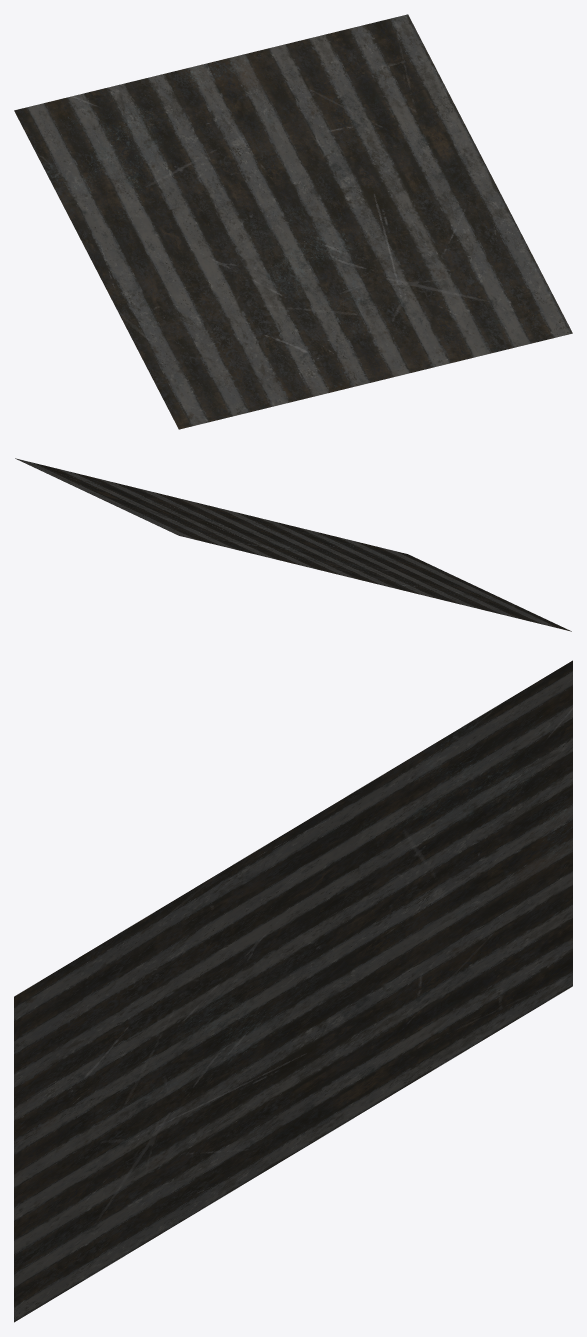
The model's file is roof3x1_reversed.fbx.
The picture shows the model from 3 angles, top to bottom: view 1: azimuth 30°, elevation 25°; view 2: azimuth 150°, elevation 25°; view 3: azimuth 270°, elevation 25°; orthographic projection. The views are drawn at different scales.
Visible parts, largest first — view 1: roof3x1_reversed; view 2: roof3x1_reversed; view 3: roof3x1_reversed.
Part boxes in pixels (box(x1,y1,x2,y2)): roof3x1_reversed: box(14, 14, 572, 429); roof3x1_reversed: box(15, 458, 571, 631); roof3x1_reversed: box(14, 660, 572, 1322).
Size of the model in its own units: 300 by 144 by 217.
